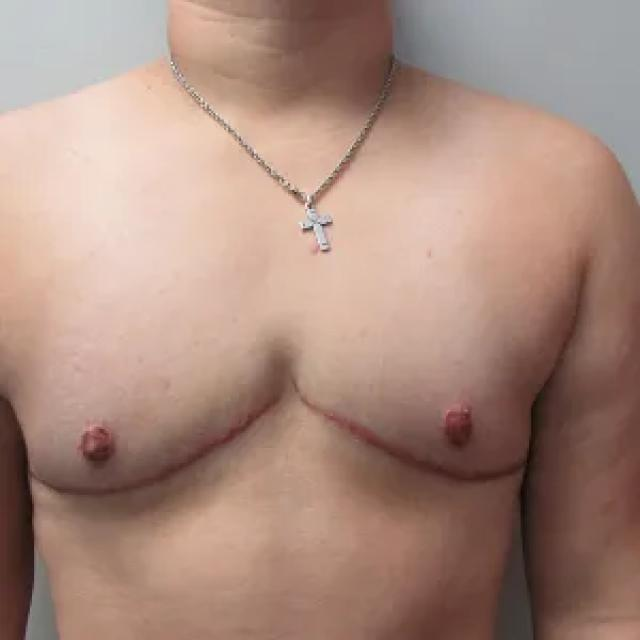Seno herido: (11, 264, 286, 533), (290, 263, 548, 534)
